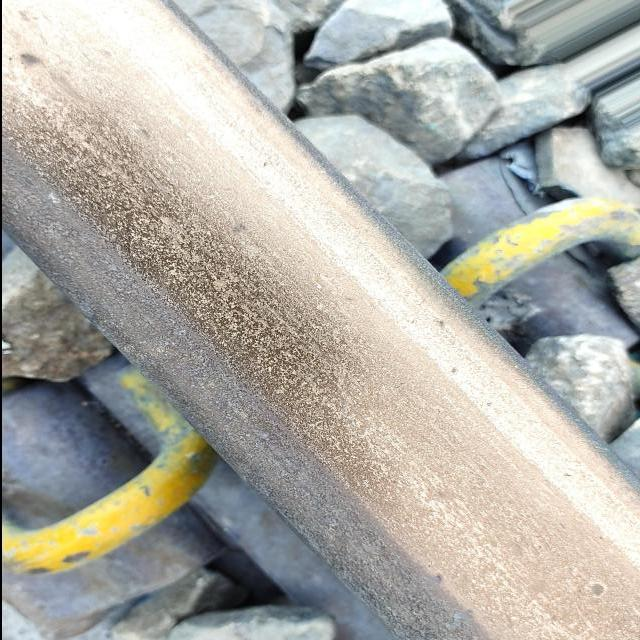broken_rail_medium: (16, 52, 46, 72), (579, 581, 606, 597), (432, 570, 445, 582)
